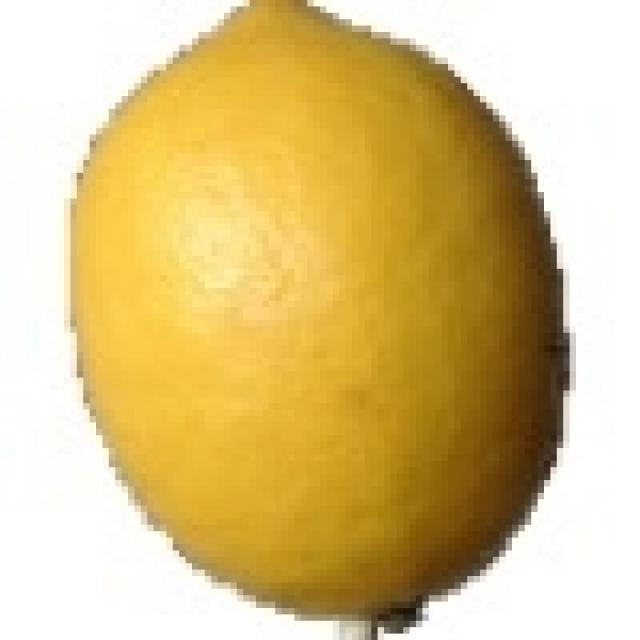lemon: (72, 0, 564, 626)
